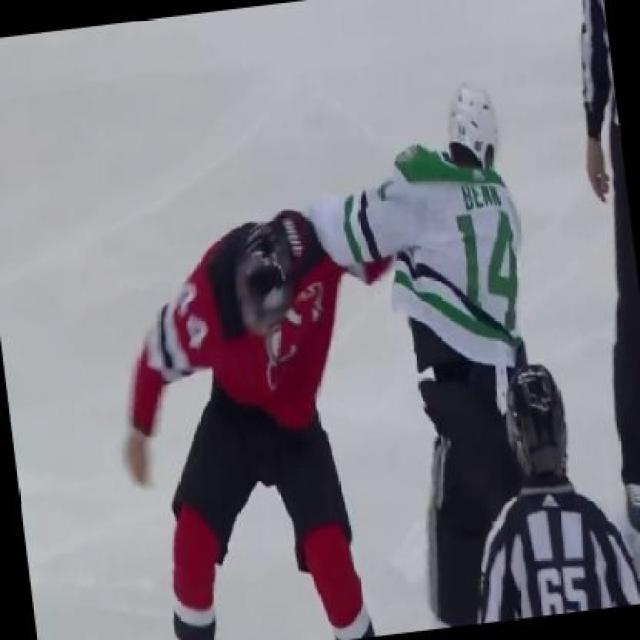fight: (54, 101, 608, 638)
non-fight: (458, 354, 638, 640)
